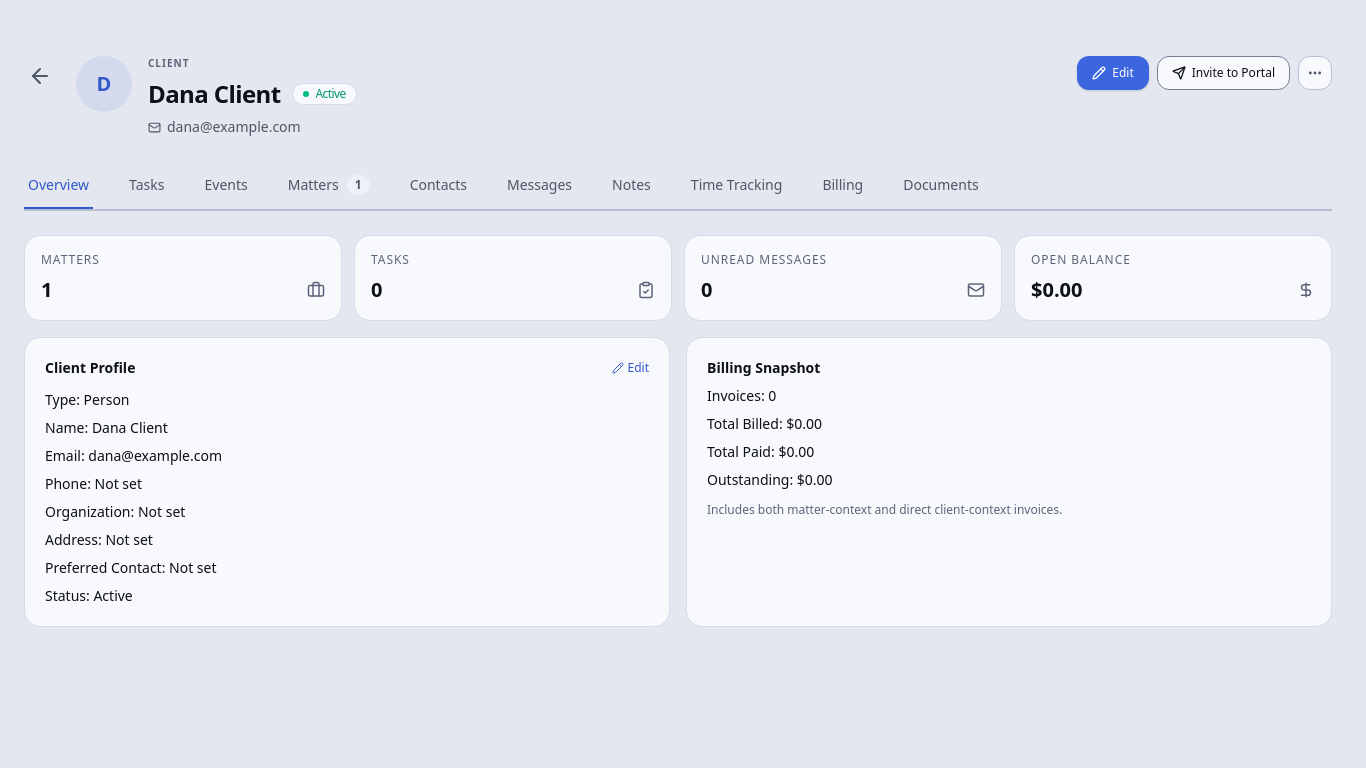
Test: loads the full matter list only when the Matters tab opens
Step 1. Click the 1st button "Matters 1" → (329, 186), box x1=284 y1=163 x2=374 y2=209
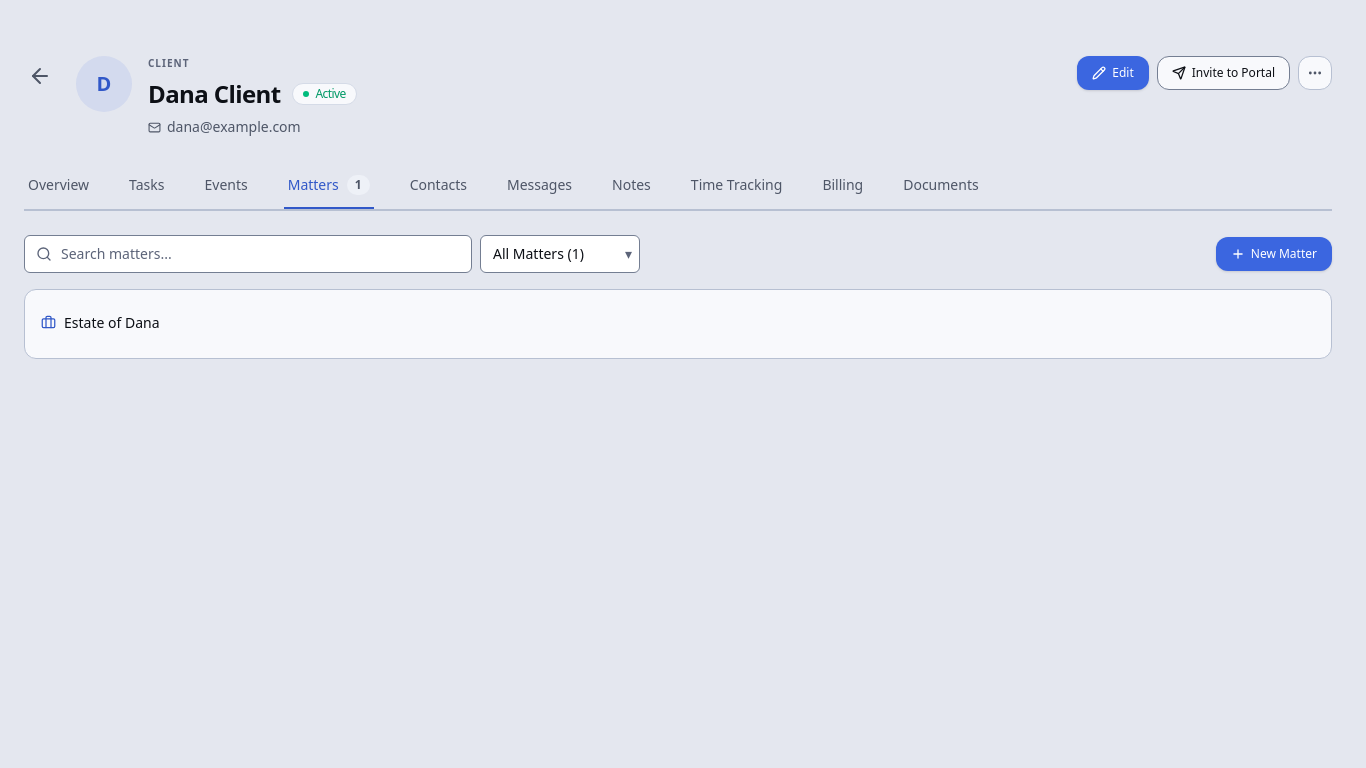
Check: the text "Estate of Dana" is shown, box x1=41 y1=313 x2=160 y2=333
